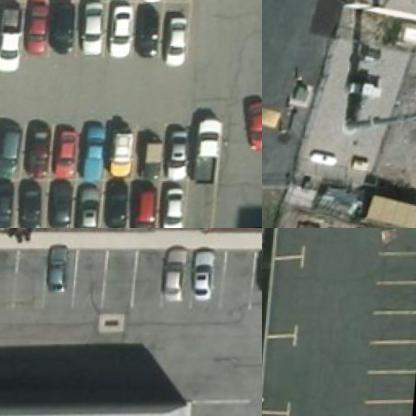car: (194, 119, 224, 182), (26, 120, 60, 171), (132, 2, 166, 52), (47, 177, 81, 227), (71, 177, 105, 227), (22, 0, 55, 51), (164, 129, 197, 180), (46, 0, 80, 49), (136, 130, 168, 182), (107, 2, 140, 52), (48, 128, 81, 178), (108, 128, 141, 178), (166, 10, 198, 61), (76, 0, 108, 51), (16, 176, 48, 227), (104, 179, 138, 227), (76, 128, 108, 178), (130, 180, 164, 227), (44, 241, 72, 297), (159, 182, 193, 227), (161, 244, 188, 300), (0, 123, 29, 175), (190, 247, 217, 302), (0, 18, 25, 70), (0, 172, 23, 224), (244, 101, 261, 153), (250, 239, 261, 296), (253, 242, 261, 299)
